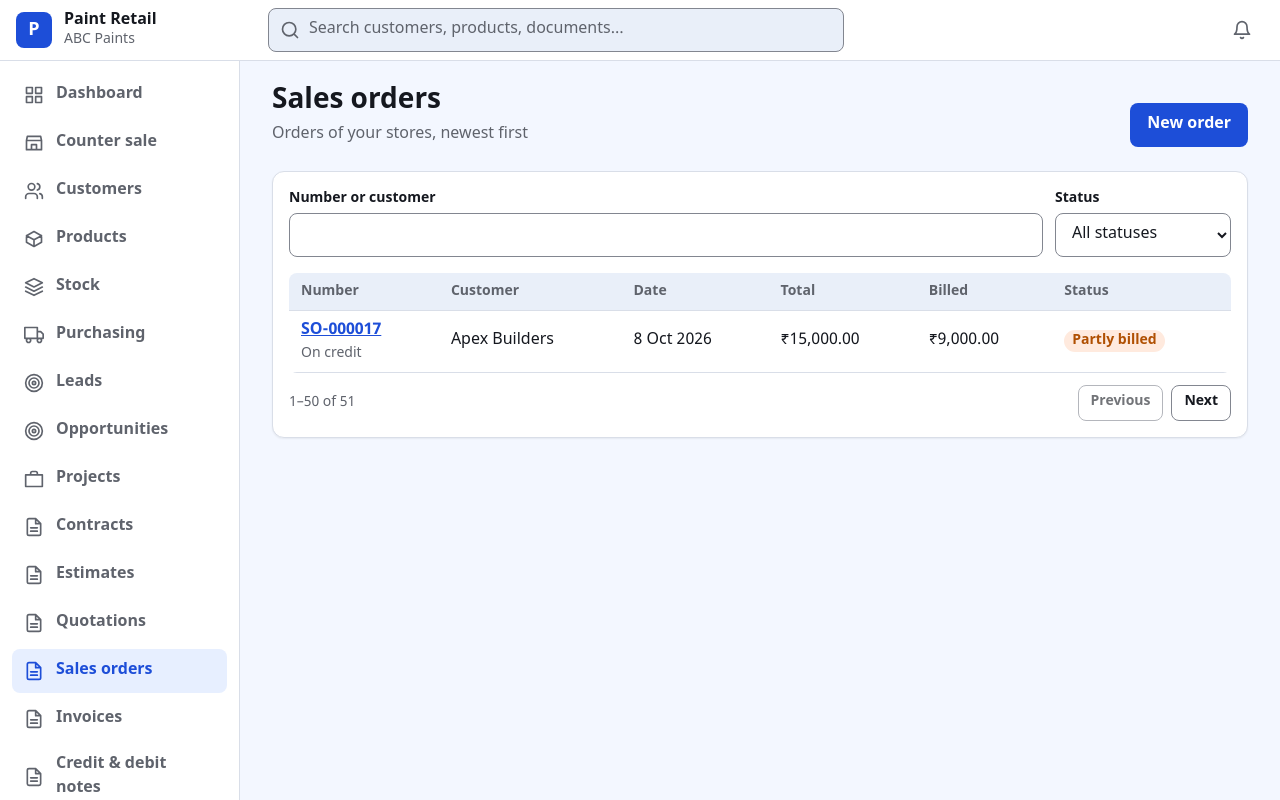
Test: SalesOrdersPage › lists orders and starts a new one
This screenshot has width=1280, height=800.
Check: the row that starts with "SO-000017" reads "SO-000017 On credit Apex Builders 8 Oct 2026 ₹15,000.00 ₹9,000.00 Partly billed", box [289,311,1231,372]
Select "Confirmed" in the dropdown labelled "Status" at (1143, 235), box [1055,213,1231,257]
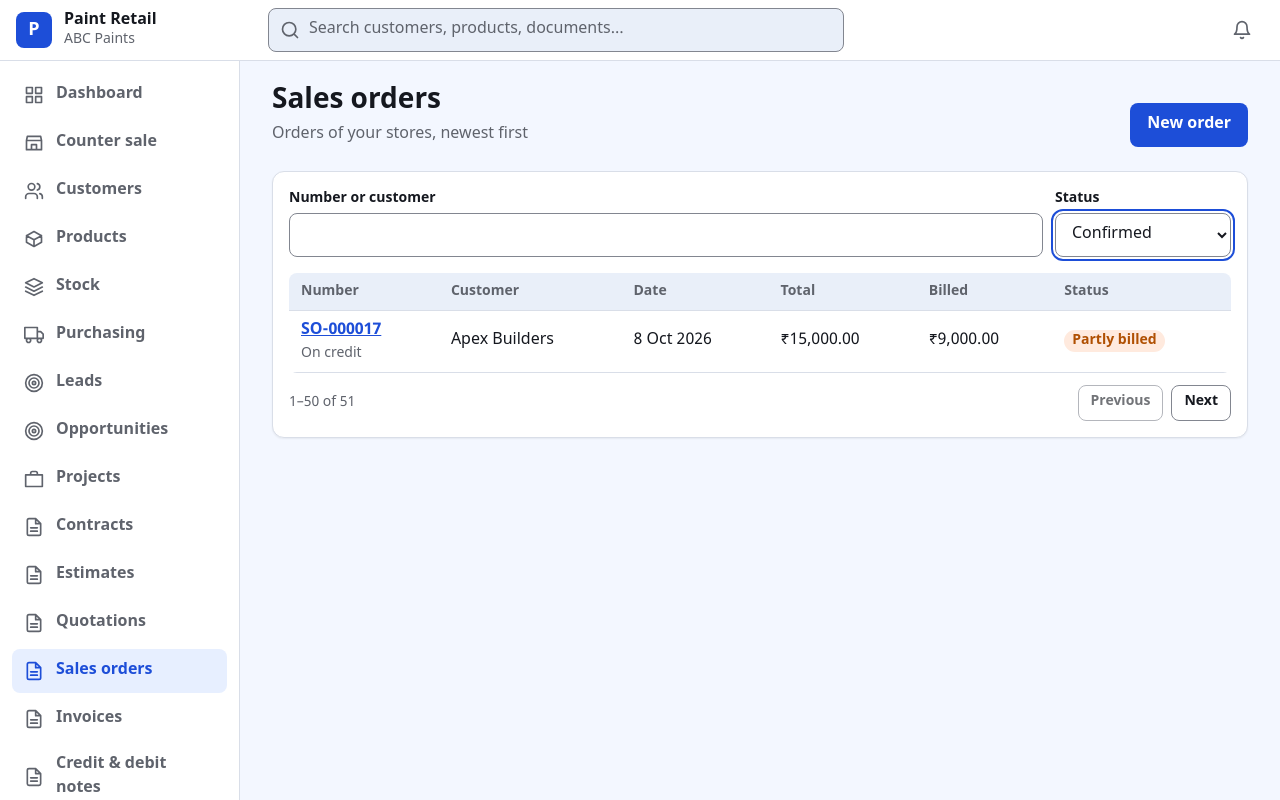
Type "SO" into the search field labelled "Number or customer".
click(666, 235); type("SO")  # box [289,213,1043,257]
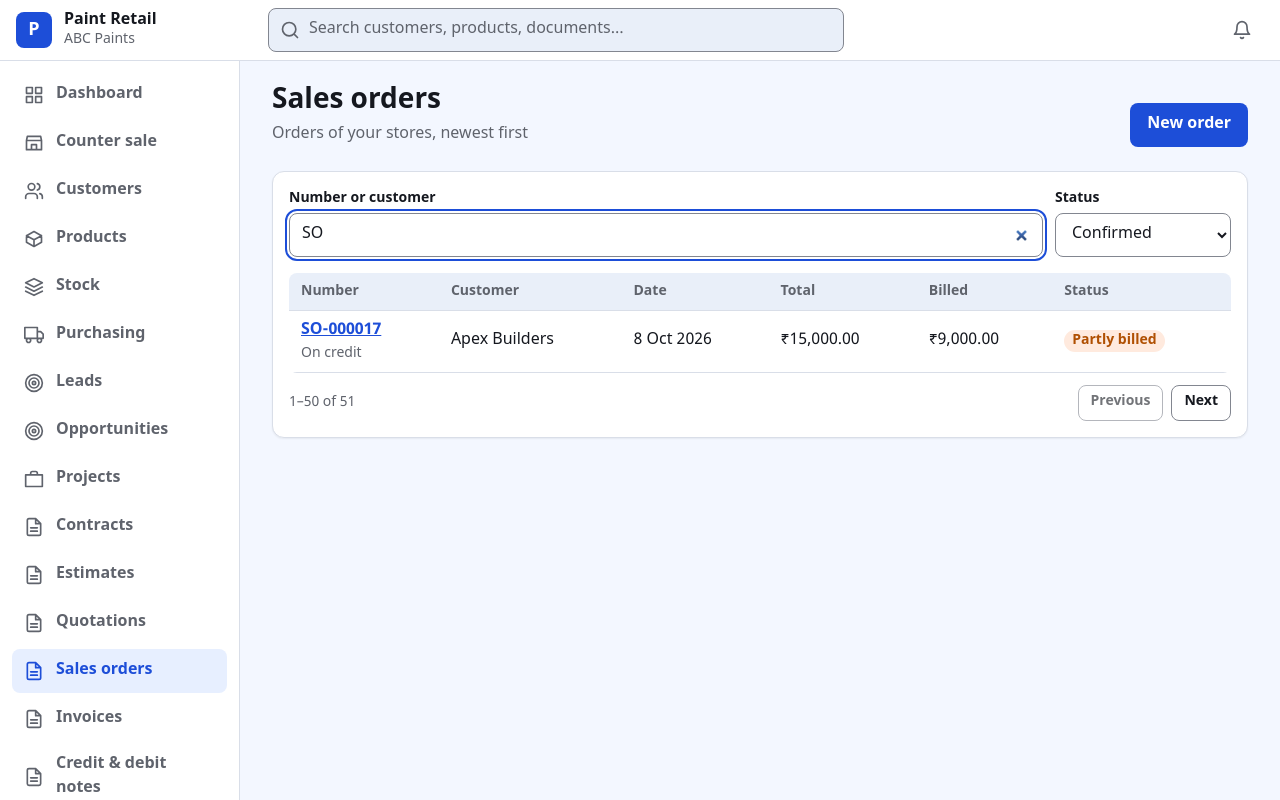
Click the button "Next".
click(1201, 403)  # box [1172,385,1231,421]
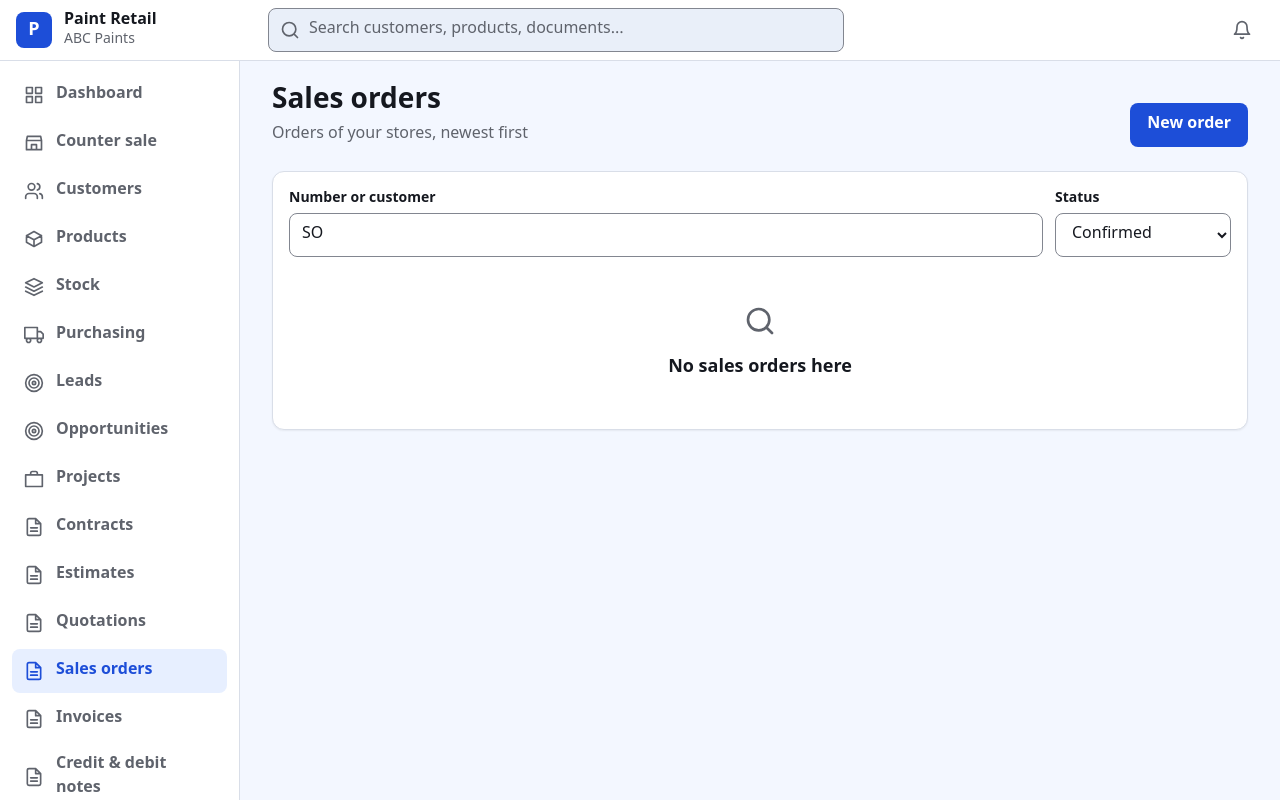
Check: the text "No sales orders here" is shown, box [668,354,852,381]
Click the link "New order".
click(1189, 125)  # box [1130,103,1248,147]
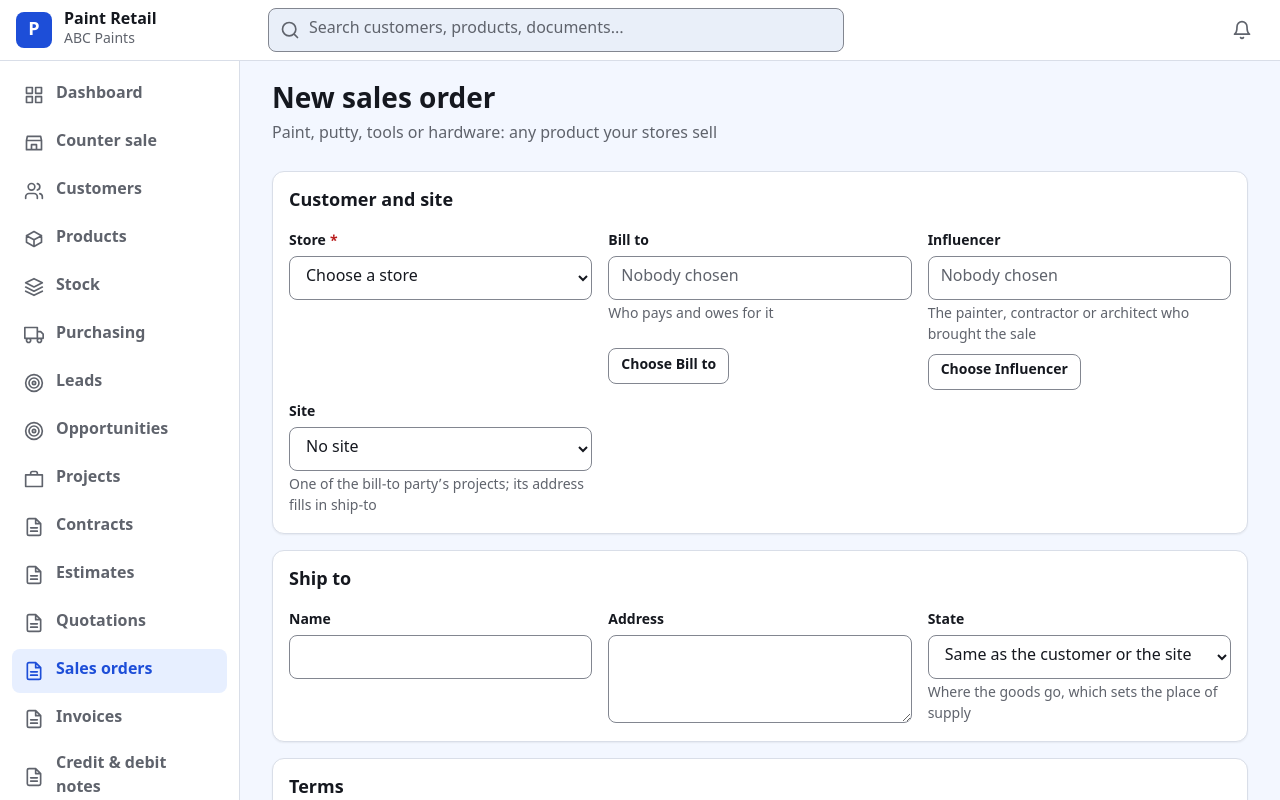
Check: the heading "New sales order" is shown, box [272,83,496,119]
